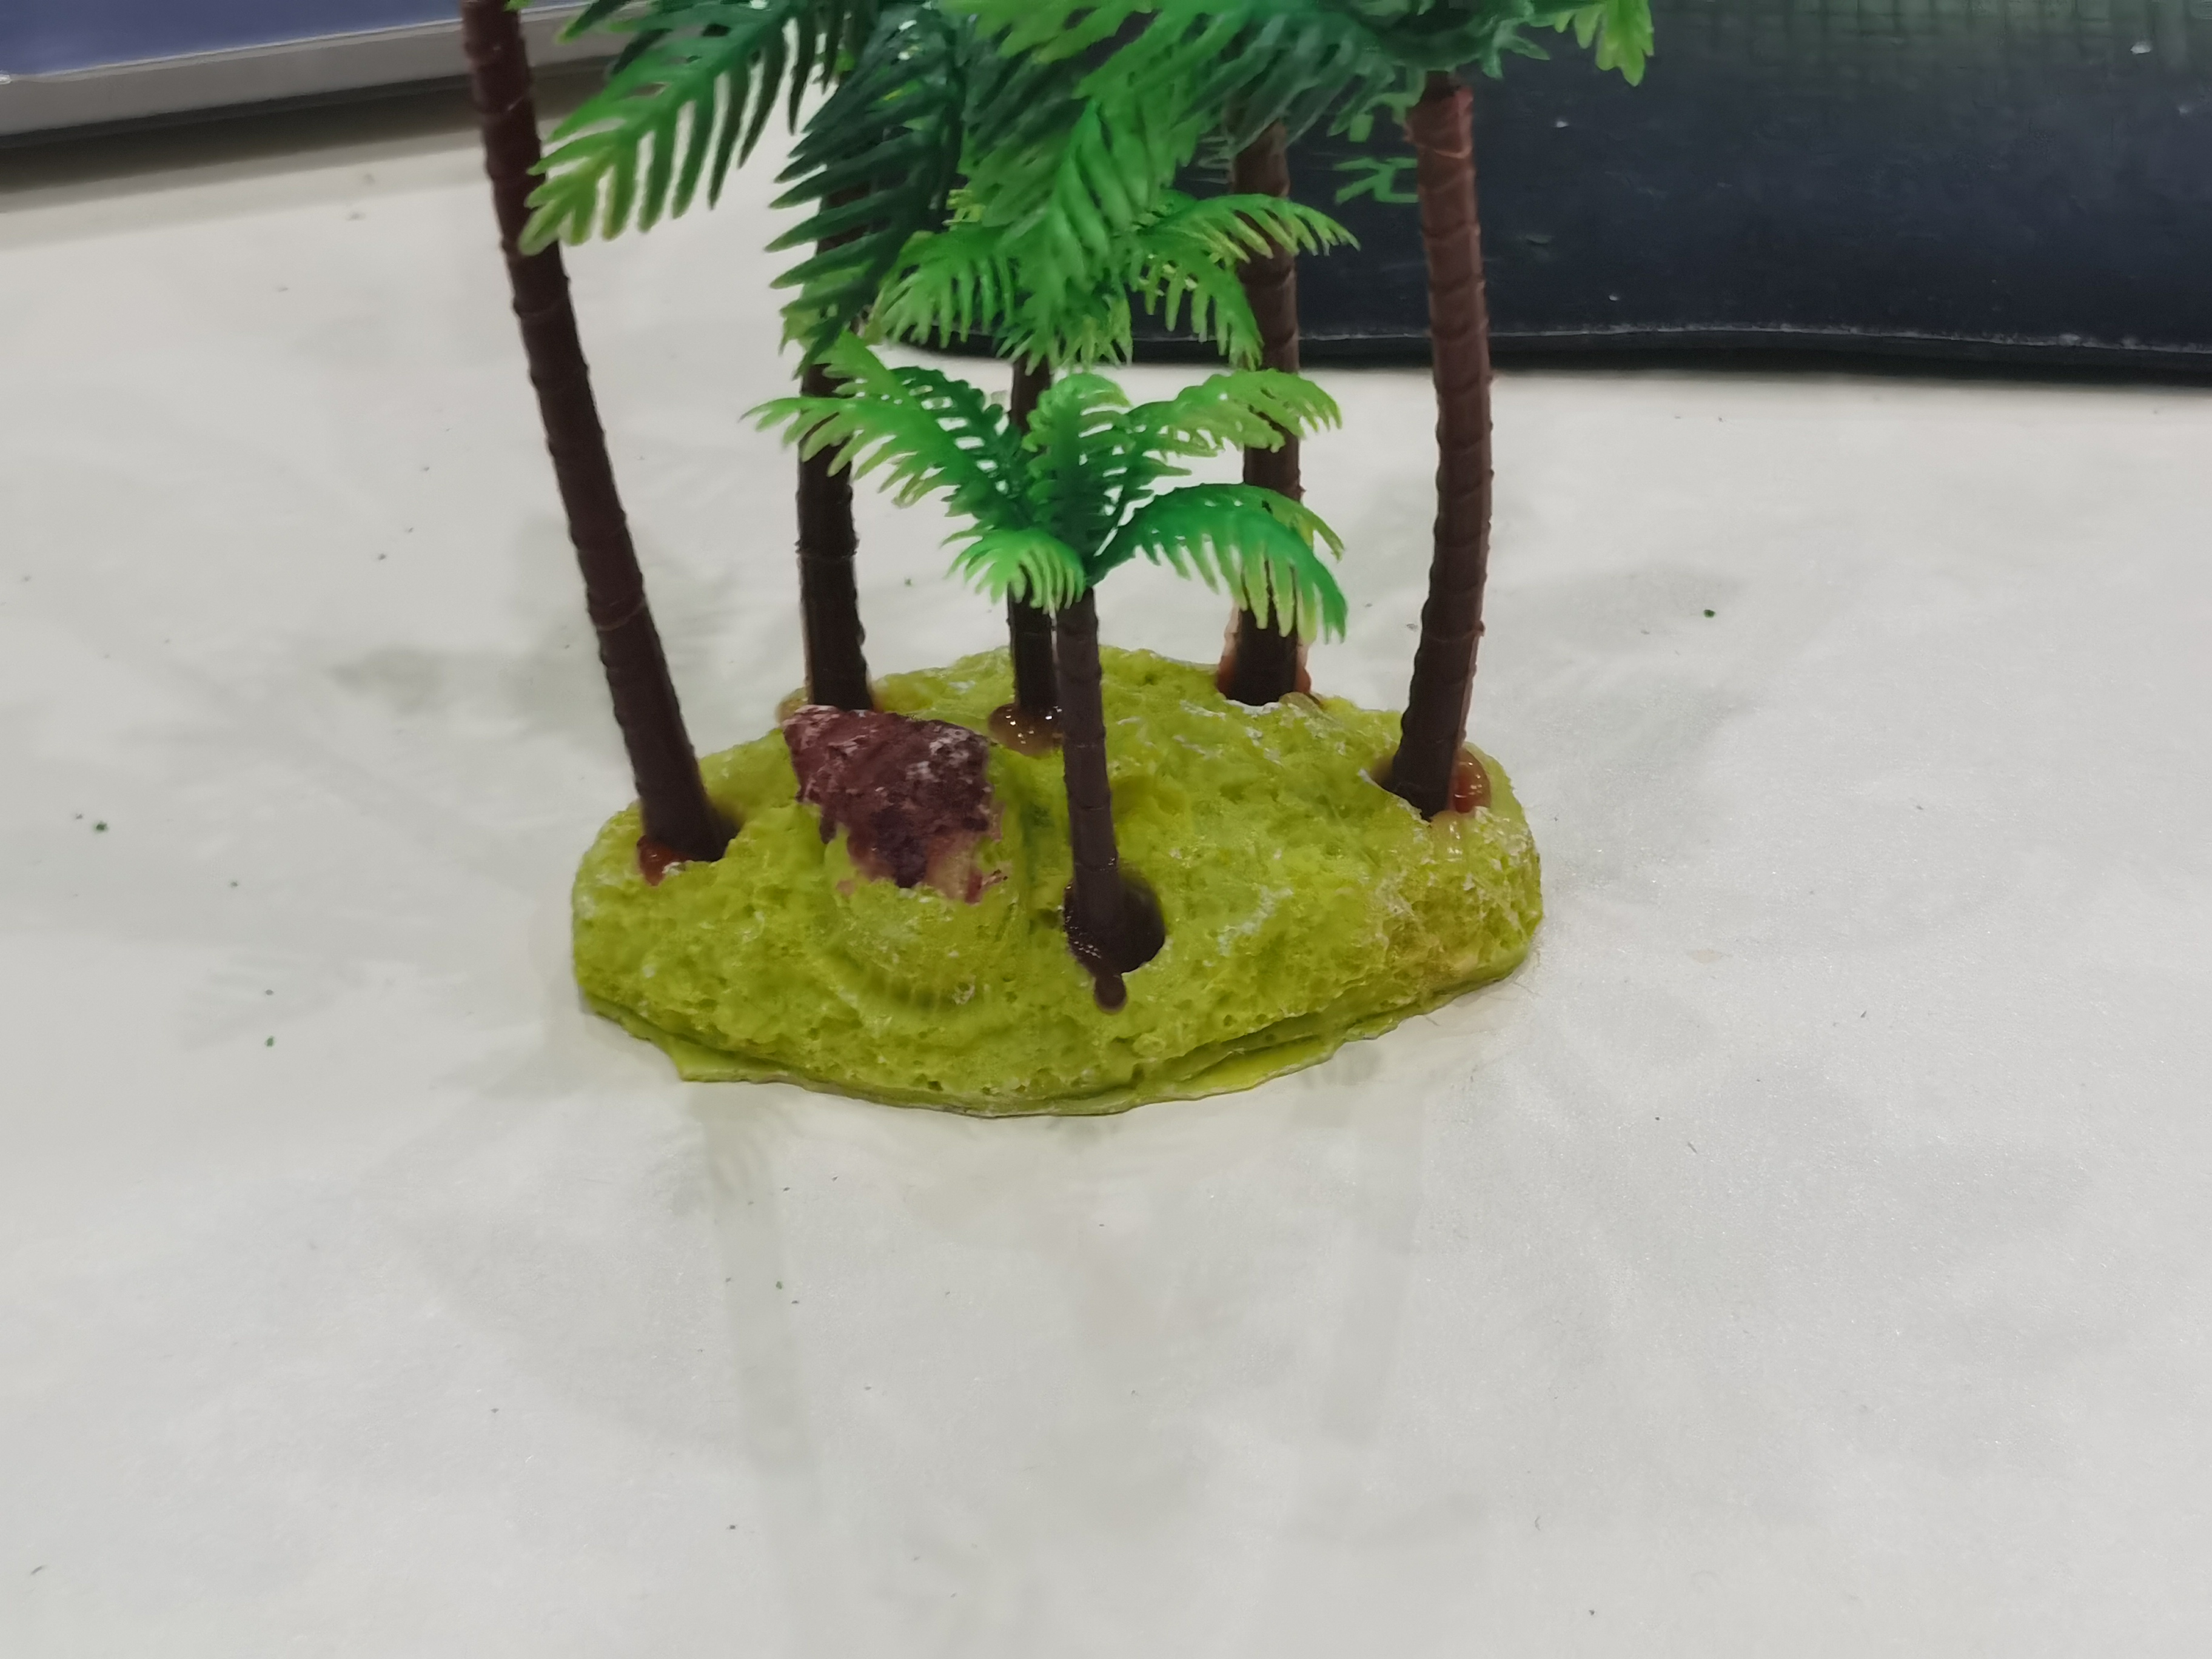corn: (442, 3, 1594, 1133)
